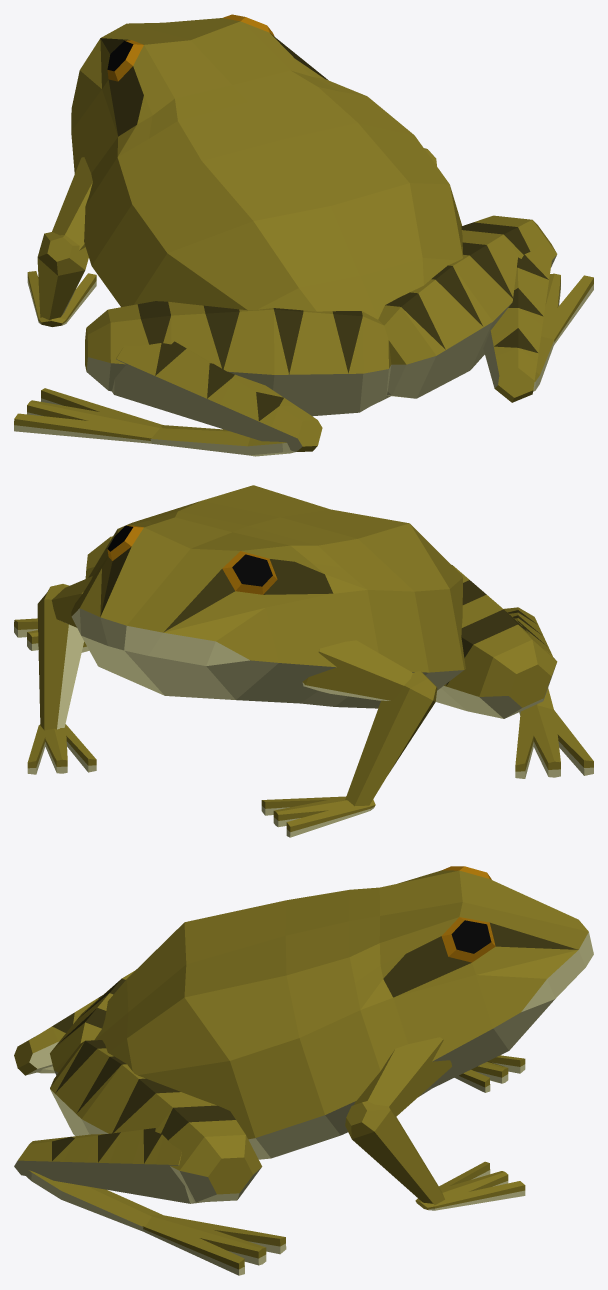
Rendered from konn.fbx.
3 renders of one model, top to bottom at view 1: azimuth 30°, elevation 25°; view 2: azimuth 150°, elevation 25°; view 3: azimuth 270°, elevation 25°, orthographic.
Parts seen in each view (by area): view 1: konn; view 2: konn; view 3: konn.
Part boxes in pixels (x1,y1,x2,y2): konn: [14, 14, 593, 456]; konn: [14, 485, 593, 837]; konn: [14, 866, 593, 1275].
Size of the model in its own units: 53.86 by 22.09 by 47.28.
